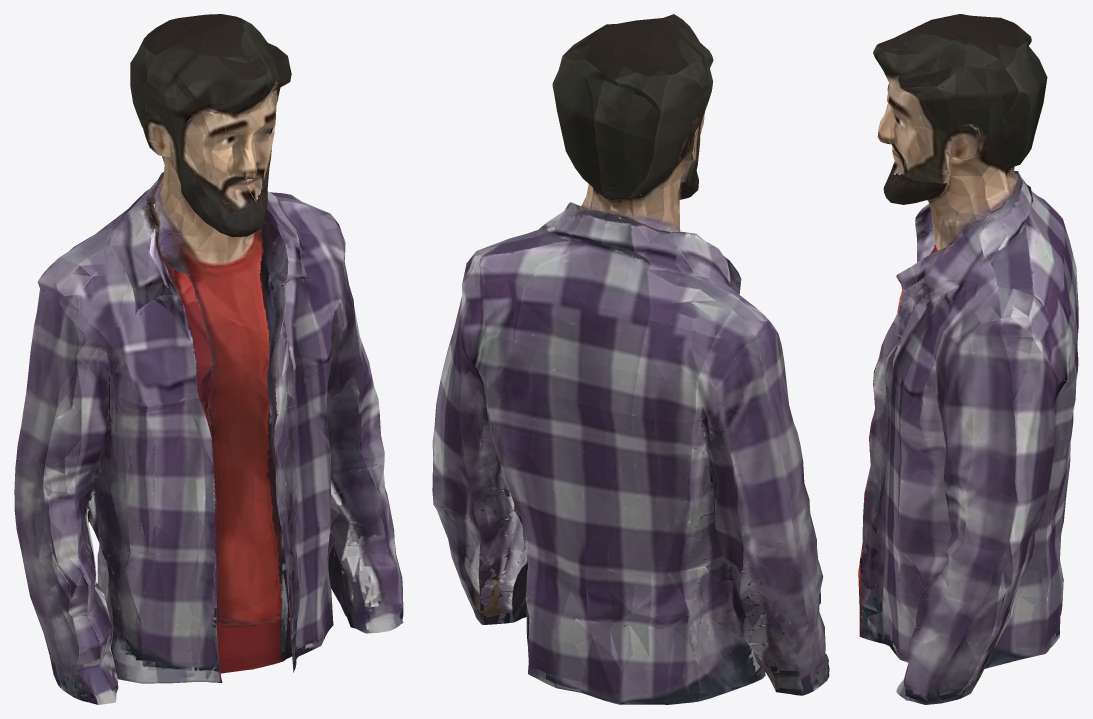
The model's file is step_2.glb.
The picture shows the model from 3 angles, left to right: view 1: azimuth 30°, elevation 25°; view 2: azimuth 150°, elevation 25°; view 3: azimuth 270°, elevation 25°; orthographic projection. The views are drawn at different scales.
Parts seen in each view (by area): view 1: geometry_0; view 2: geometry_0; view 3: geometry_0.
Boxes of the visible parts, x1,y1,x2,y2 form: geometry_0: (14, 14, 403, 704); geometry_0: (432, 14, 829, 704); geometry_0: (858, 14, 1078, 704).
Bounding box in the file's own units: 0.5031 × 0.8284 × 0.2748.
Materials: 1 (1 with a texture image).
